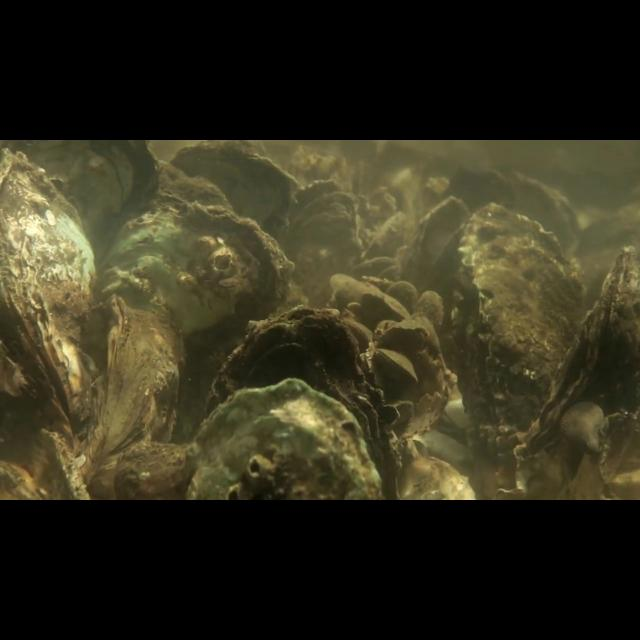Oyster-Closed: (101, 191, 293, 403), (205, 306, 403, 500), (0, 148, 98, 452), (186, 380, 382, 500), (87, 292, 179, 500), (382, 320, 428, 354), (363, 290, 409, 324), (328, 271, 370, 305), (385, 280, 419, 316), (416, 290, 444, 330), (345, 316, 375, 346)
Oyster-Open: (448, 202, 588, 500), (516, 244, 640, 500), (282, 179, 362, 309), (376, 348, 418, 384)
